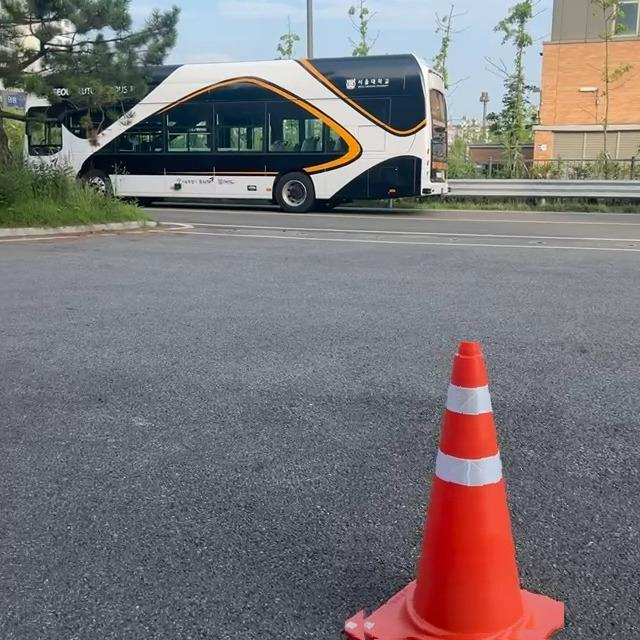fallen_object: (298, 311, 605, 640)
